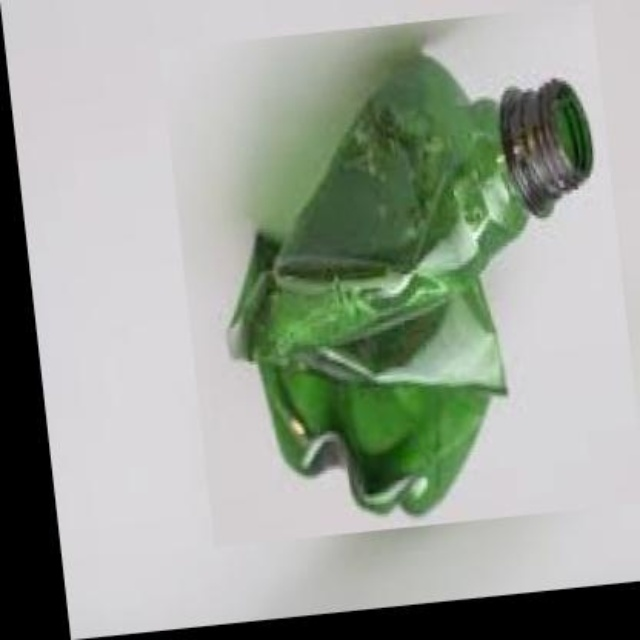trash: (228, 52, 591, 512)
